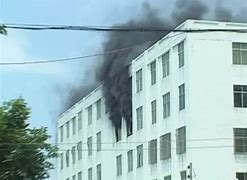smoke: (93, 5, 150, 128)
